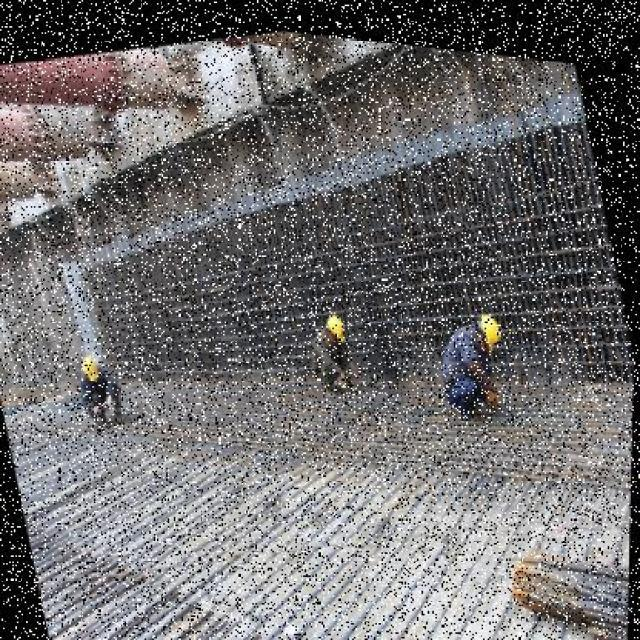helmet: (478, 294, 506, 342), (323, 299, 353, 340), (74, 348, 106, 386)
